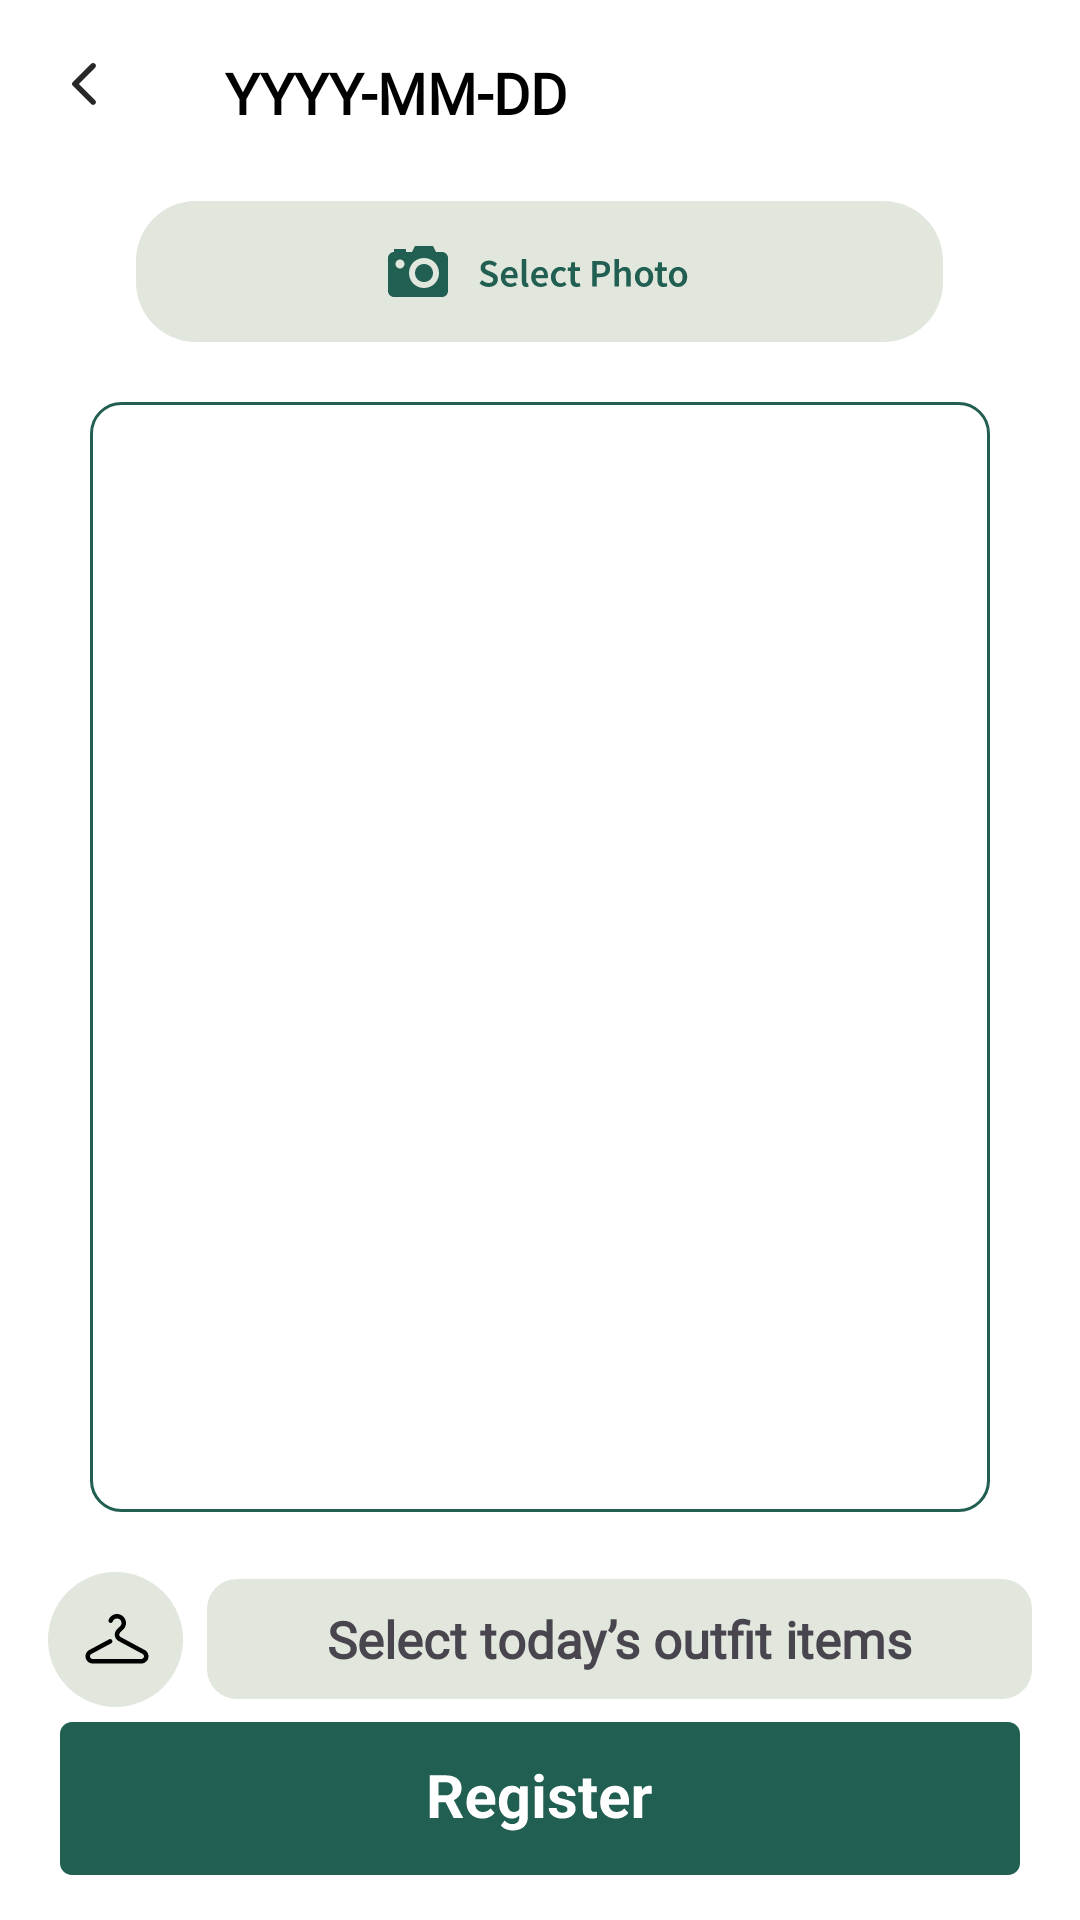

Screen size 1080 × 1920. Icon name, then its center in pixels as (x,y):
back: (84,84)
